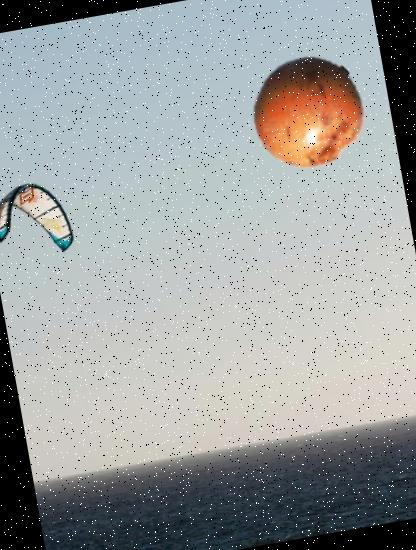Granadilla: (243, 46, 374, 177)
